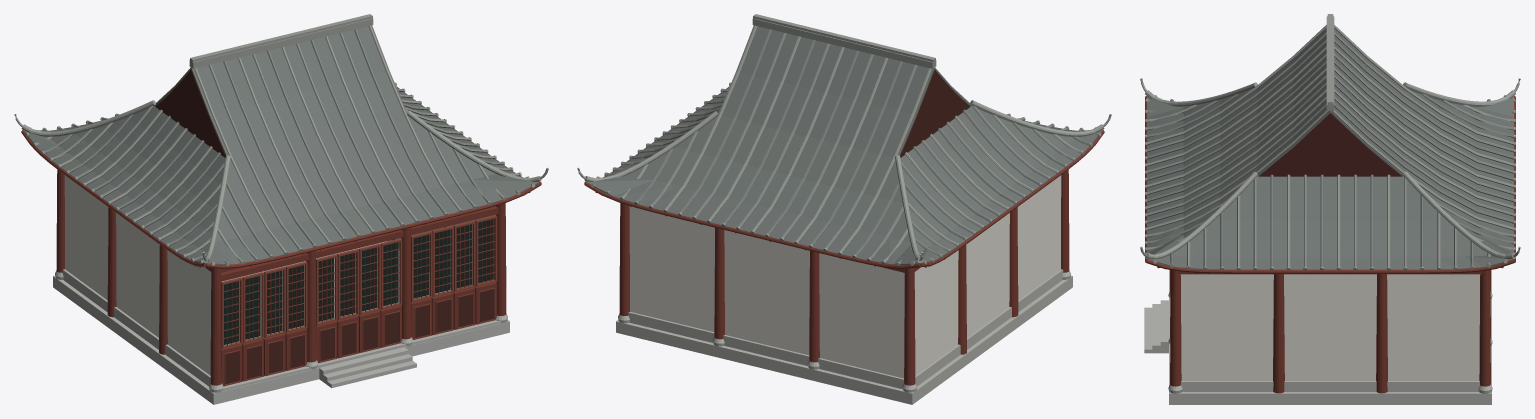
File: chongming-chongsheng-shrine-lod.glb
3 views of the same model, side by side, from view 1: azimuth 30°, elevation 25°; view 2: azimuth 150°, elevation 25°; view 3: azimuth 270°, elevation 25° (orthographic).
Size of the model in its own units: 14.6 by 11 by 13.85.
